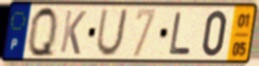0: (200, 9, 229, 58)
7: (131, 7, 160, 59)
K: (58, 9, 88, 57)
L: (168, 11, 193, 57)
Q: (27, 4, 59, 61)
U: (94, 8, 130, 58)
